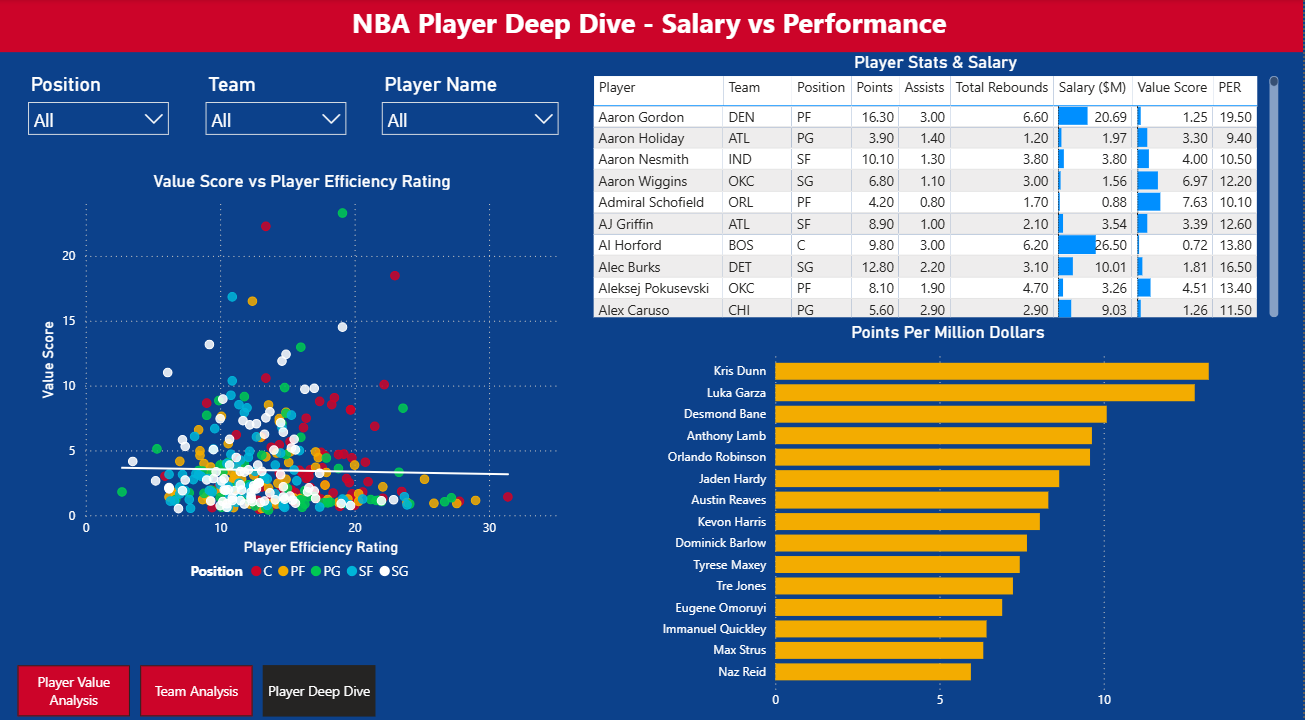

The dashboard page shown, as its layout file describes it:
{"tool":"powerbi","page":{"name":"Player Deep Dive","canvas":[1280,720],"ordinal":2},"visuals":[{"type":"textbox","box":[0,0,1280.3,52.1],"z":0},{"type":"tableEx","title":"Player Stats & Salary","fields":{"Values":["nba_players_clean.Player Name","nba_players_clean.Team","nba_players_clean.Position","Sum(nba_players_clean.PTS)","Sum(nba_players_clean.AST)","Sum(nba_players_clean.TRB)","Sum(nba_players_clean.Salary_M)","Sum(nba_players_clean.Value_Score)","Sum(nba_players_clean.PER)"]},"box":[579.5,51.5,681.2,264.7],"z":1},{"type":"scatterChart","title":"Value Score vs Player Efficiency Rating","fields":{"X":["Sum(nba_players_clean.PER)"],"Y":["Sum(nba_players_clean.Value_Score)"],"Category":["nba_players_clean.Player Name"],"Series":["nba_players_clean.Position"]},"box":[39.1,167.5,522.1,410.9],"z":2},{"type":"clusteredBarChart","title":"Points Per Million Dollars","fields":{"Category":["nba_players_clean.Player Name"],"Y":["Sum(nba_players_clean.Points_per_Million)"]},"box":[639.5,315.5,585.7,388.9],"z":3},{"type":"slicer","fields":{"Values":["nba_players_clean.Position"]},"box":[22,67.3,157.7,89.3],"z":4},{"type":"slicer","fields":{"Values":["nba_players_clean.Team"]},"box":[195,67.3,157.7,89.3],"z":5},{"type":"slicer","fields":{"Values":["nba_players_clean.Player Name"]},"box":[368.1,67.3,193.2,89.3],"z":6},{"type":"pageNavigator","box":[21.8,651.7,351.8,50.4],"z":7}]}

Visuals, with their boxes in screenshot pixels (x1, y1, x2, y2), scaled from the page's 1280x720 canvas onto the 1305x720 screenshot:
textbox: [0,0,1304,52]
"Player Stats & Salary" tableEx: [591,52,1285,316]
"Value Score vs Player Efficiency Rating" scatterChart: [40,168,572,578]
"Points Per Million Dollars" clusteredBarChart: [652,316,1249,704]
slicer - nba_players_clean.Position: [22,67,183,157]
slicer - nba_players_clean.Team: [199,67,360,157]
slicer - nba_players_clean.Player Name: [375,67,572,157]
pageNavigator: [22,652,381,702]
